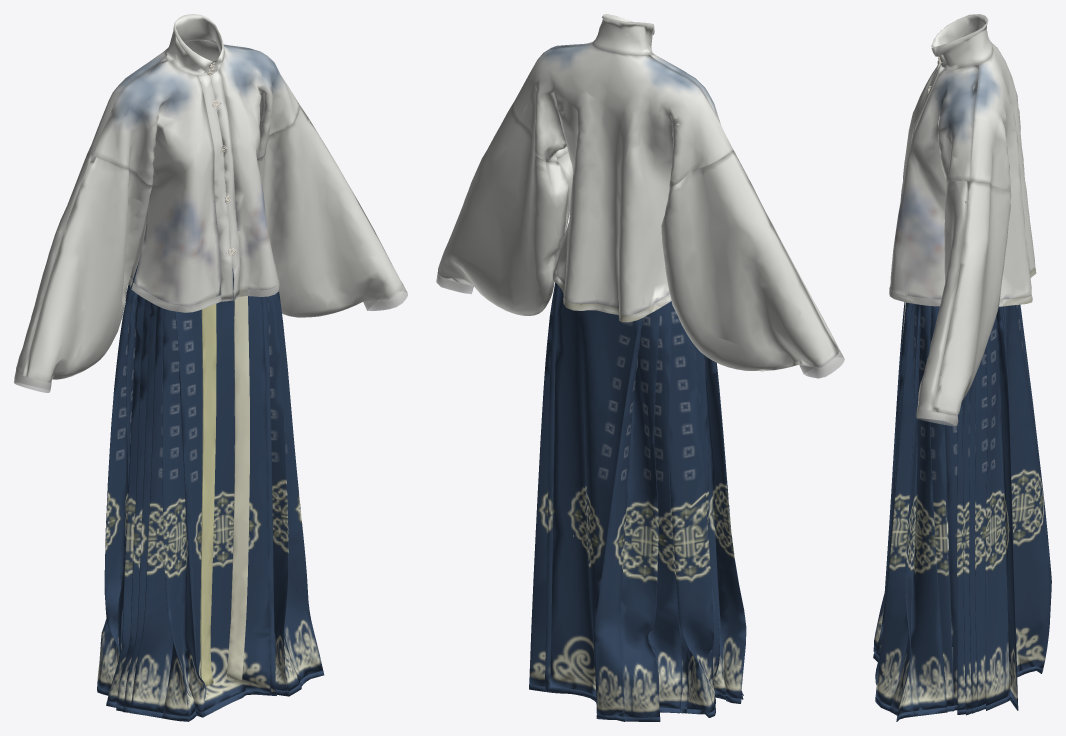
File: ming-standing-clothing.glb
3 renders of one model, left to right at view 1: azimuth 30°, elevation 25°; view 2: azimuth 150°, elevation 25°; view 3: azimuth 270°, elevation 25°, orthographic. The views are drawn at different scales.
Parts seen in each view (by area): view 1: ming_1_front11, ming_12_front9, ming_12_front5, ming_12_front13, ming_1_front7, ming_12_front15, ming_1_front9, ming_11_front, ming_11_front1, ming_1_front13, ming_12_front, ming_12_front2 (+4 smaller); view 2: ming_1_front9, ming_12_front7, ming_12_front8, ming_12_front12, ming_1_front11, ming_1_front6, ming_1_front8, ming_12_front2, ming_12_front17, ming_12_front5; view 3: ming_1_front6, ming_1_front7, ming_12_front15, ming_1_front9, ming_12_front12, ming_12_front7, ming_12_front5, ming_12_front2, ming_1_front11, ming_12_front9, ming_12_front4, ming_1_front12 (+3 smaller).
Part boxes in pixels (left/top/right/bottom): ming_1_front11: left=107, top=268, right=271, bottom=716; ming_12_front9: left=93, top=58, right=221, bottom=305; ming_12_front5: left=257, top=105, right=402, bottom=317; ming_12_front13: left=23, top=156, right=152, bottom=382; ming_1_front7: left=266, top=291, right=322, bottom=691; ming_12_front15: left=219, top=45, right=299, bottom=290; ming_1_front9: left=97, top=258, right=139, bottom=690; ming_11_front: left=226, top=231, right=249, bottom=680; ming_11_front1: left=200, top=296, right=216, bottom=686; ming_1_front13: left=106, top=289, right=276, bottom=721; ming_12_front: left=198, top=75, right=233, bottom=301; ming_12_front2: left=165, top=14, right=224, bottom=75; ming_1_front9: left=550, top=280, right=719, bottom=717; ming_12_front7: left=512, top=43, right=733, bottom=315; ming_12_front8: left=661, top=150, right=838, bottom=370; ming_12_front12: left=437, top=101, right=568, bottom=315; ming_1_front11: left=703, top=355, right=746, bottom=698; ming_1_front6: left=529, top=282, right=573, bottom=686; ming_1_front8: left=545, top=283, right=715, bottom=721; ming_12_front2: left=592, top=14, right=654, bottom=55; ming_12_front17: left=553, top=269, right=671, bottom=322; ming_12_front5: left=512, top=109, right=573, bottom=315; ming_1_front6: left=944, top=306, right=1017, bottom=710; ming_1_front7: left=875, top=295, right=953, bottom=716; ming_12_front15: left=889, top=65, right=978, bottom=299; ming_1_front9: left=951, top=297, right=1051, bottom=672; ming_12_front12: left=933, top=181, right=1011, bottom=415; ming_12_front7: left=966, top=42, right=1035, bottom=299; ming_12_front5: left=917, top=180, right=969, bottom=410; ming_12_front2: left=931, top=14, right=992, bottom=69; ming_1_front11: left=874, top=302, right=906, bottom=669; ming_12_front9: left=903, top=57, right=966, bottom=179; ming_12_front4: left=916, top=407, right=958, bottom=426; ming_1_front12: left=875, top=697, right=954, bottom=721.
Bounding box in the file's own units: 0.9605 × 1.55 × 0.3808.
40 materials, 33 textured.
